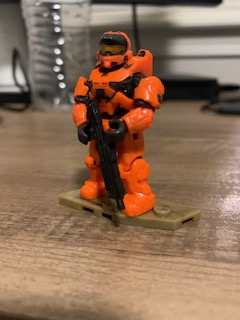rifle: (81, 101, 130, 215)
spartan: (69, 22, 165, 223)
